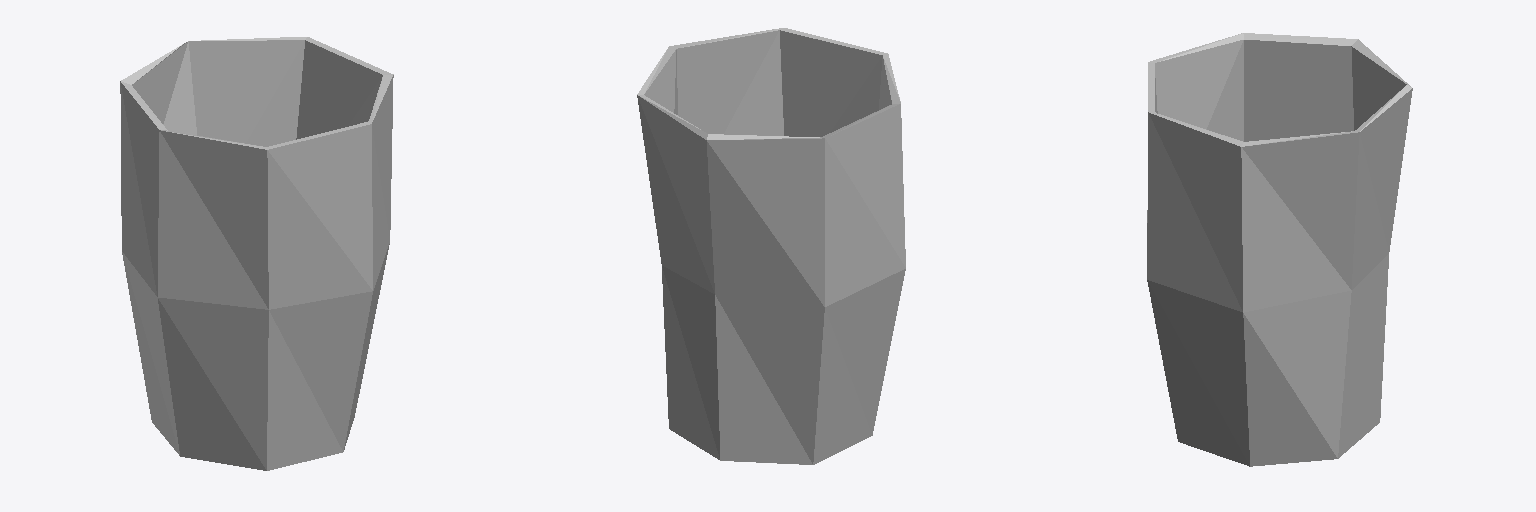
The model's file is trash_bucket_deformed1.obj.
3 renders of one model, left to right at view 1: azimuth 30°, elevation 25°; view 2: azimuth 150°, elevation 25°; view 3: azimuth 270°, elevation 25°, orthographic.
Visible parts, largest first — view 1: trash_bin.001; view 2: trash_bin.001; view 3: trash_bin.001.
Part boxes in pixels (x1,y1,x2,y2): trash_bin.001: (120,37,393,470); trash_bin.001: (637,28,905,464); trash_bin.001: (1147,33,1412,466).
Size of the model in its own units: 0.2954 by 0.4052 by 0.2874.